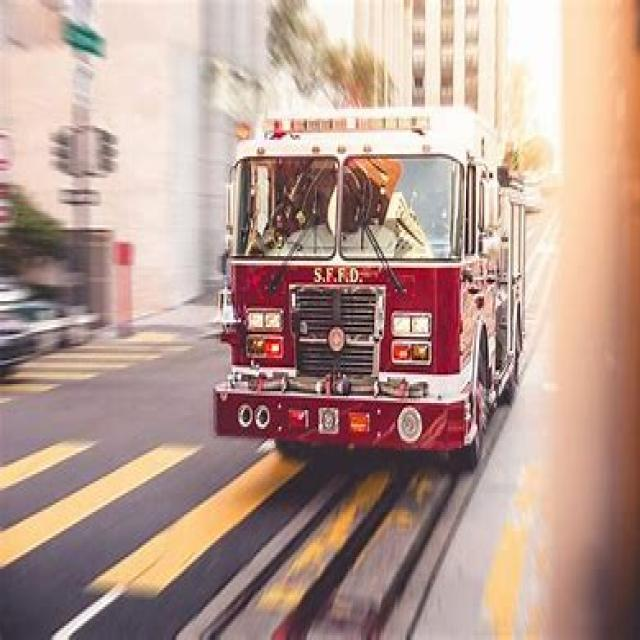Fire-engine: (212, 102, 534, 467)
